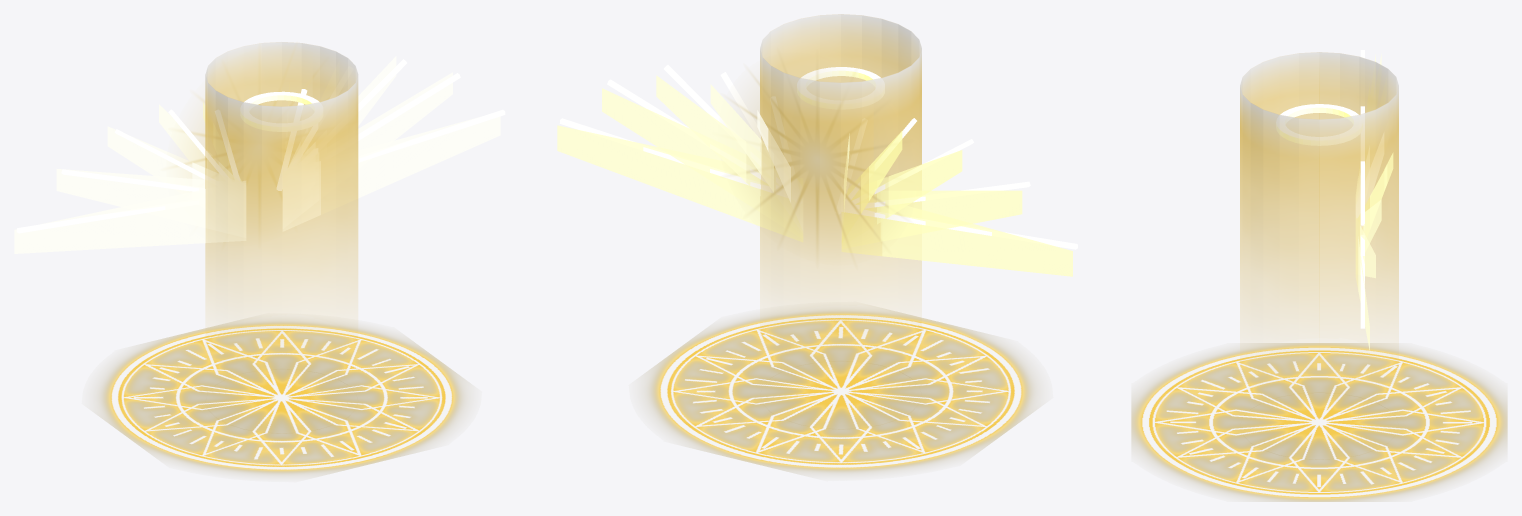
The model's file is god_aura.glb.
3 views of the same model, side by side, from view 1: azimuth 30°, elevation 25°; view 2: azimuth 150°, elevation 25°; view 3: azimuth 270°, elevation 25° (orthographic). The views are drawn at different scales.
Visible parts, largest first — view 1: god_god_sigil, god_god_column, god_wing_light, god_mandorla, god_wing_edge, god_halo; view 2: god_god_sigil, god_god_column, god_wing_light, god_mandorla, god_wing_edge, god_halo; view 3: god_god_sigil, god_god_column, god_wing_light, god_halo, god_wing_edge.
Part boxes in pixels (left/top/right/bottom): god_god_sigil: left=99, top=321, right=464, bottom=474; god_god_column: left=205, top=42, right=358, bottom=318; god_wing_light: left=14, top=56, right=500, bottom=253; god_mandorla: left=170, top=51, right=328, bottom=233; god_wing_edge: left=16, top=59, right=505, bottom=233; god_halo: left=241, top=91, right=322, bottom=131; god_god_sigil: left=647, top=310, right=1034, bottom=472; god_god_column: left=760, top=14, right=921, bottom=308; god_wing_light: left=557, top=75, right=1072, bottom=276; god_mandorla: left=729, top=58, right=904, bottom=255; god_wing_edge: left=559, top=65, right=1077, bottom=249; god_halo: left=797, top=67, right=884, bottom=108; god_god_sigil: left=1131, top=343, right=1507, bottom=501; god_god_column: left=1240, top=52, right=1398, bottom=392; god_wing_light: left=1355, top=54, right=1393, bottom=351; god_halo: left=1276, top=104, right=1362, bottom=145; god_wing_edge: left=1360, top=50, right=1364, bottom=328.
Size of the model in its own units: 4.04 by 2.75 by 2.6.
Materials: 6 (3 with a texture image).
